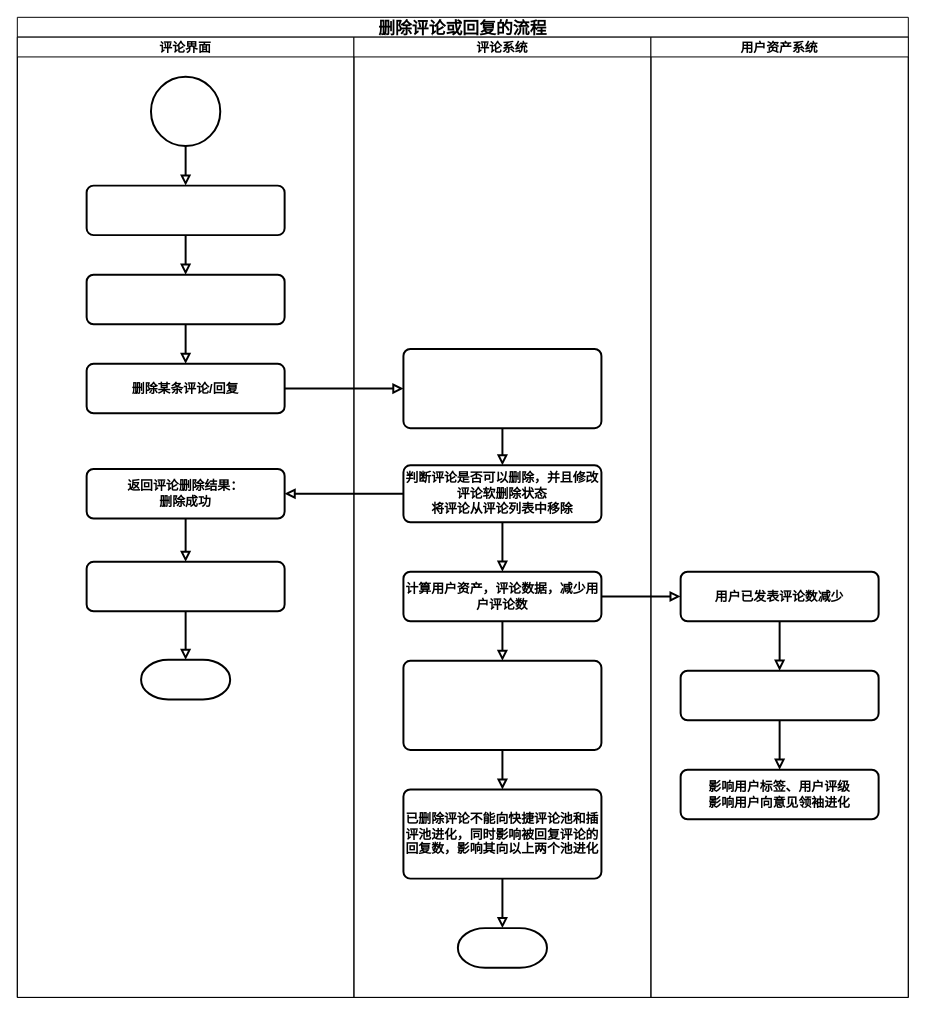
Image size: 926x1015. Some labels were removed from this diagram. Each missing label, with the centre of its shape:
"发送删除请求到服务端 [输入参数： 评论ID，用户ID等] [输出参数： 删除是否成功]" goes at pixel 502 388.
"将评论从列表中删除，新列表中不包含该条评论" goes at pixel 185 586.
"被回复用户对应被评论数减少" goes at pixel 779 695.
"触发评论列表重新排序 多种排序规则 基于分数的列表排序 基于时间的列表排序" goes at pixel 502 704.
"进入评论列表" goes at pixel 185 299.
"进入评论区" goes at pixel 185 210.
